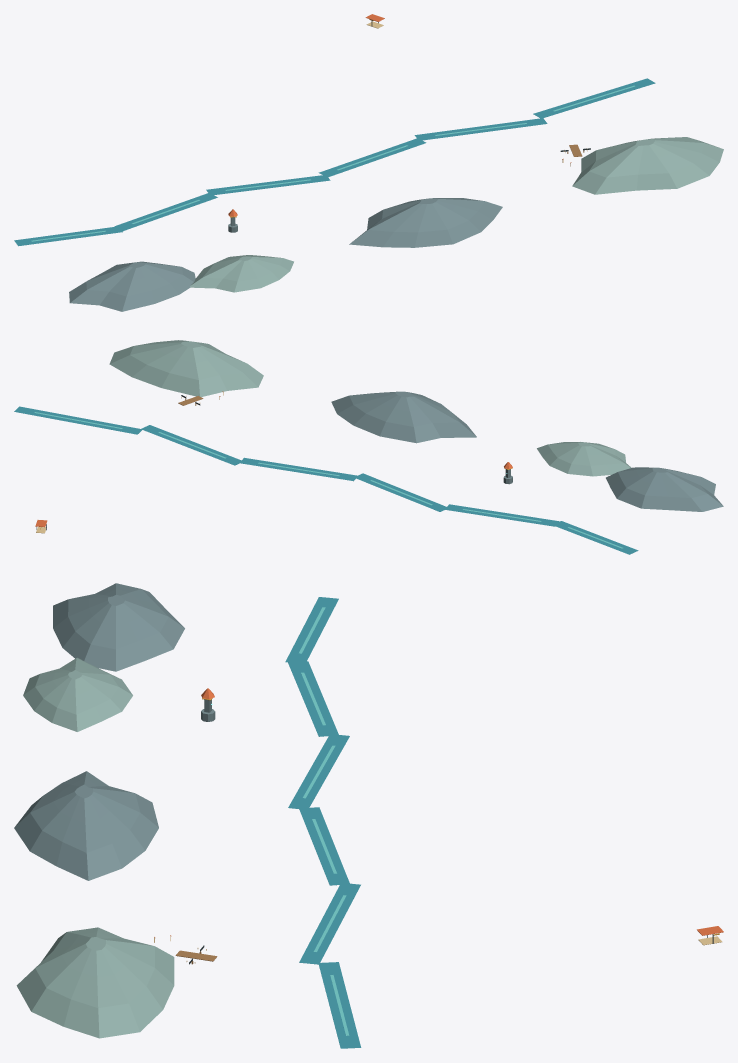
File: OPEN-FIELD-SCENERY-01_LOD0.glb
3 renders of one model, top to bottom at view 1: azimuth 30°, elevation 25°; view 2: azimuth 150°, elevation 25°; view 3: azimuth 270°, elevation 25°, orthographic. The views are drawn at different scales.
Parts seen in each view (by area): view 1: HILL01_mass_3, HILL01_mass_2, HILL01_mass_0, HILL01_mass_1, RIVER01_water_05, RIVER01_water_04, RIVER01_water_03, RIVER01_water_02, RIVER01_water_01, RIVER01_water_00; view 2: HILL01_mass_3, HILL01_mass_2, HILL01_mass_0, HILL01_mass_1, RIVER01_water_05, RIVER01_water_04, RIVER01_water_03, RIVER01_water_01, RIVER01_water_02, RIVER01_water_00; view 3: HILL01_mass_3, HILL01_mass_2, HILL01_mass_0, HILL01_mass_1, RIVER01_water_05, RIVER01_water_04, RIVER01_water_03, RIVER01_water_02, RIVER01_water_01, RIVER01_water_00.
Boxes of the visible parts, x1,y1,x2,y2 form: HILL01_mass_3: (572, 137, 723, 194); HILL01_mass_2: (349, 198, 502, 247); HILL01_mass_0: (69, 261, 195, 311); HILL01_mass_1: (190, 255, 293, 292); RIVER01_water_05: (533, 78, 655, 118); RIVER01_water_04: (414, 118, 547, 140); RIVER01_water_03: (318, 138, 426, 176); RIVER01_water_02: (206, 174, 330, 194); RIVER01_water_01: (114, 193, 217, 230); RIVER01_water_00: (14, 227, 122, 246); HILL01_mass_3: (109, 340, 263, 397); HILL01_mass_2: (331, 391, 476, 443); HILL01_mass_0: (606, 467, 723, 511); HILL01_mass_1: (537, 442, 631, 476); RIVER01_water_05: (14, 406, 142, 434); RIVER01_water_04: (141, 425, 241, 465); RIVER01_water_03: (239, 457, 357, 481); RIVER01_water_01: (445, 504, 559, 526); RIVER01_water_02: (354, 473, 446, 511); RIVER01_water_00: (553, 521, 638, 554); HILL01_mass_3: (16, 927, 174, 1038); HILL01_mass_2: (14, 771, 158, 880); HILL01_mass_0: (53, 583, 184, 671); HILL01_mass_1: (23, 657, 132, 731); RIVER01_water_05: (319, 962, 361, 1048); RIVER01_water_04: (299, 883, 360, 964); RIVER01_water_03: (299, 807, 349, 885); RIVER01_water_02: (288, 734, 349, 808); RIVER01_water_01: (288, 661, 338, 736); RIVER01_water_00: (285, 597, 338, 663).
Bounding box in the file's own units: 797 × 31.9 × 514.
